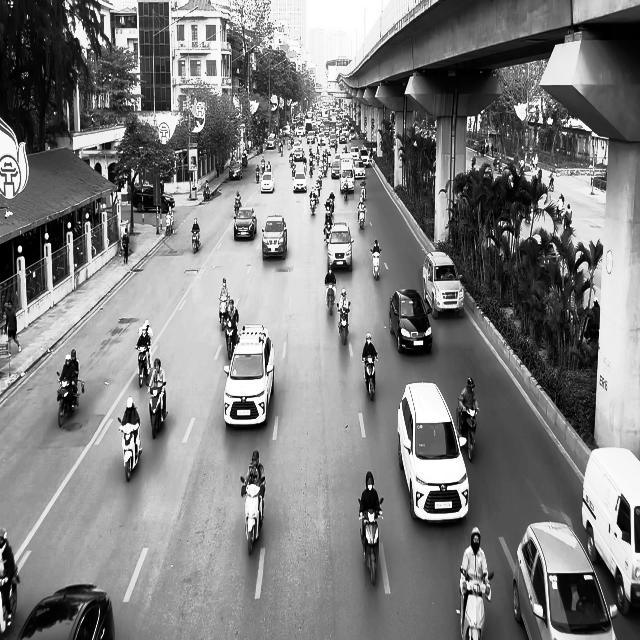car: (512, 520, 618, 640), (397, 381, 469, 524), (18, 583, 115, 640), (222, 323, 274, 428), (422, 250, 465, 318), (389, 288, 432, 354), (327, 222, 354, 272), (261, 214, 287, 260), (234, 206, 256, 240), (260, 170, 275, 192), (160, 193, 174, 213), (229, 160, 242, 180)
motorbike: (459, 566, 493, 639), (358, 497, 383, 585), (240, 475, 265, 555), (117, 416, 142, 481), (56, 371, 84, 428), (456, 404, 479, 462), (147, 381, 168, 439), (362, 354, 378, 400), (136, 343, 151, 388), (222, 319, 238, 360), (337, 302, 350, 345), (370, 248, 381, 280), (325, 282, 336, 314), (219, 298, 229, 328), (357, 204, 366, 230), (191, 231, 200, 253)
truck: (581, 446, 640, 616)
